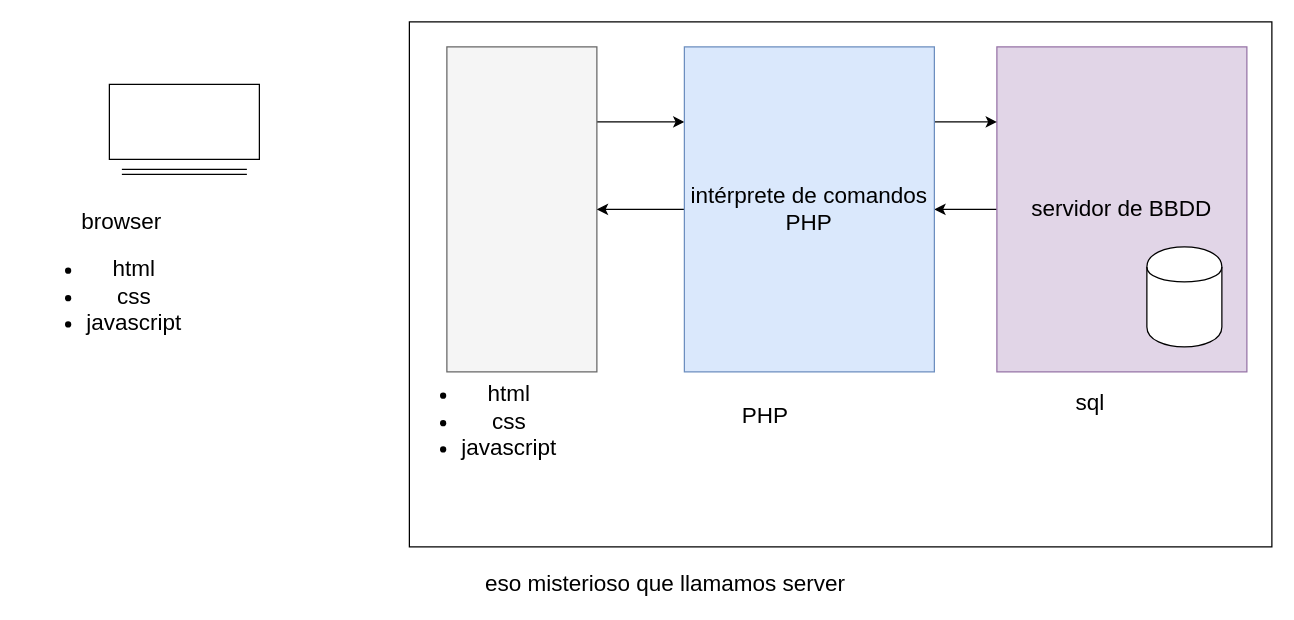
Image size: 1294x620. Some labels were removed from this diagram. Each missing label, with the centre of its shape:
"cliente" goes at point 183,121.
"servidor web" goes at point 521,209.
